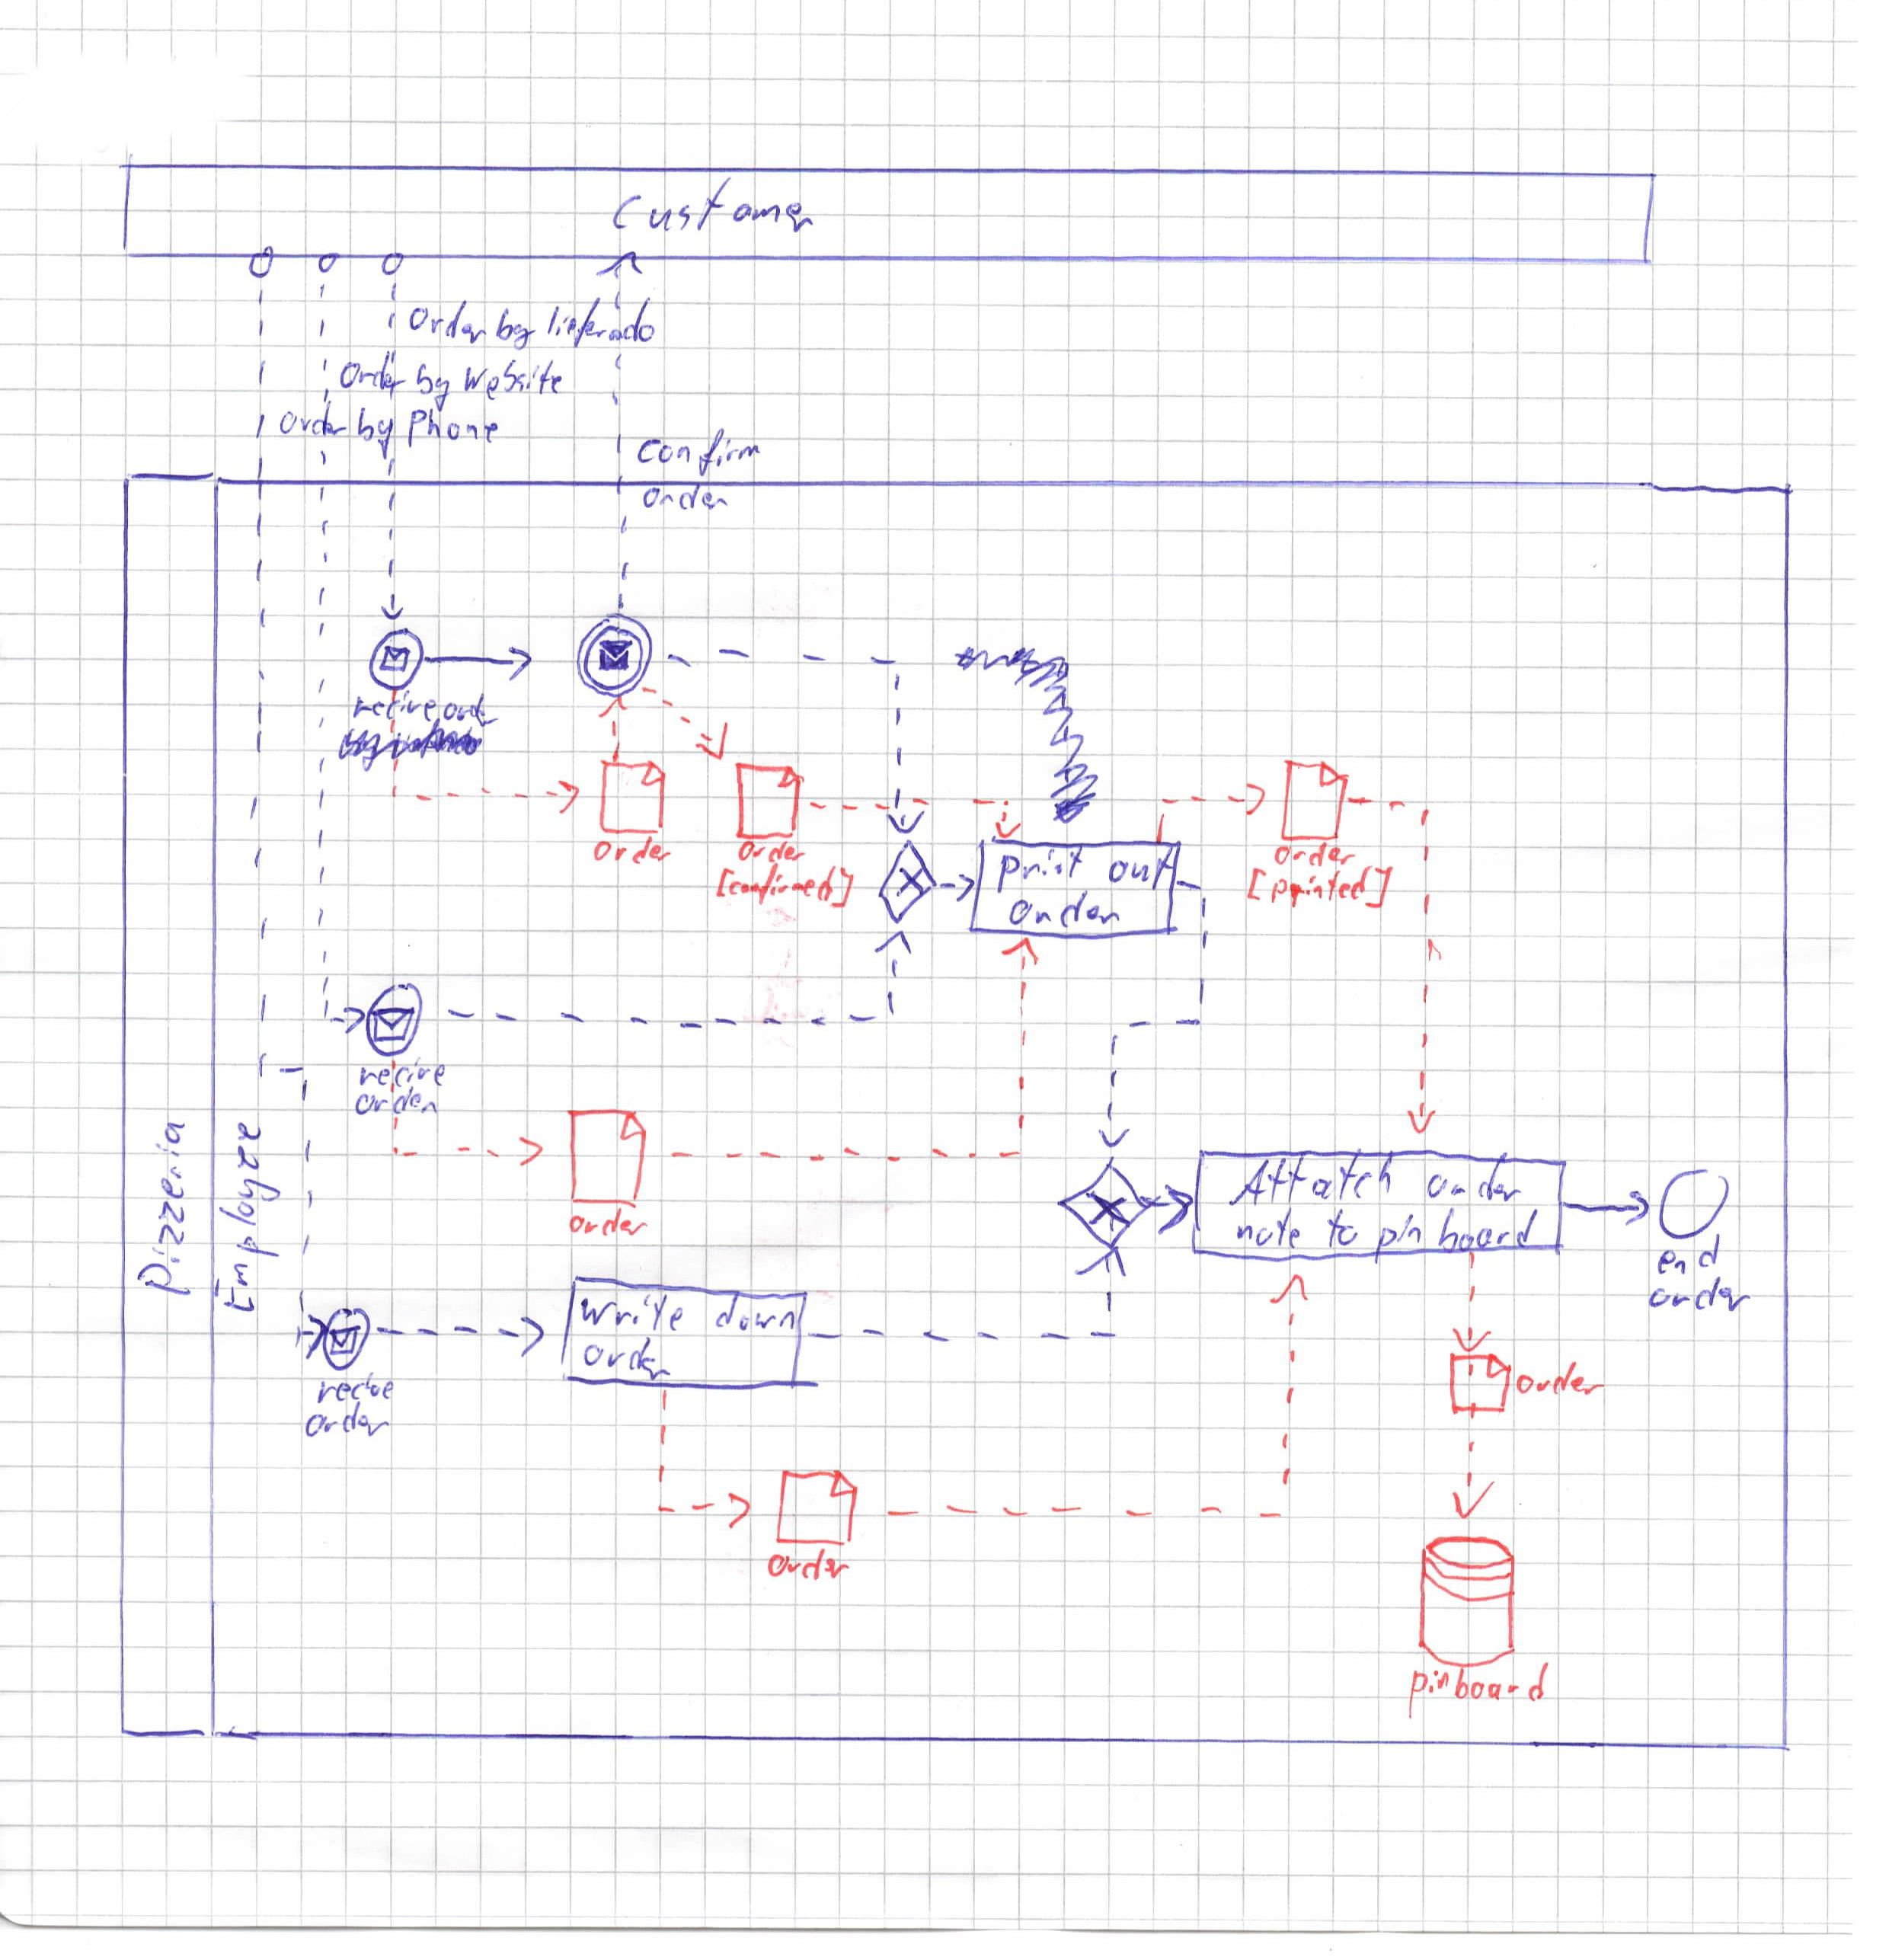Attach: (1226, 1150, 1398, 1207)
Customer: (609, 180, 815, 233)
Employee: (213, 1118, 283, 1318)
Phone: (404, 406, 502, 446)
Pizzeria: (136, 1120, 192, 1297)
Website: (460, 357, 567, 401)
[confirmed]: (714, 861, 855, 906)
[printed]: (1245, 864, 1396, 906)
by: (411, 364, 457, 411), (355, 406, 397, 453), (491, 306, 539, 348)
confirm: (637, 427, 764, 474)
down: (714, 1295, 799, 1332)
end: (1655, 1234, 1723, 1276)
lieferando: (544, 296, 658, 345)
note: (1233, 1209, 1305, 1251)
order: (1006, 889, 1121, 929), (581, 1335, 673, 1382), (1425, 1162, 1525, 1206), (1646, 1276, 1753, 1312), (408, 299, 490, 346), (304, 1402, 392, 1440), (1515, 1360, 1604, 1396), (766, 1545, 854, 1582), (338, 352, 408, 397), (352, 1087, 441, 1118), (640, 483, 731, 513), (591, 835, 675, 866), (278, 401, 348, 438), (567, 1207, 652, 1237), (1273, 840, 1359, 868), (441, 693, 502, 726), (736, 837, 808, 864)
out: (1105, 847, 1177, 893)
pinboard: (1405, 1666, 1553, 1720), (1375, 1209, 1537, 1258)
print: (997, 847, 1088, 894)
receive: (352, 686, 439, 724), (317, 1372, 397, 1407)
recive: (360, 1057, 448, 1092)
to: (1322, 1207, 1363, 1251)
write: (577, 1295, 689, 1335)
